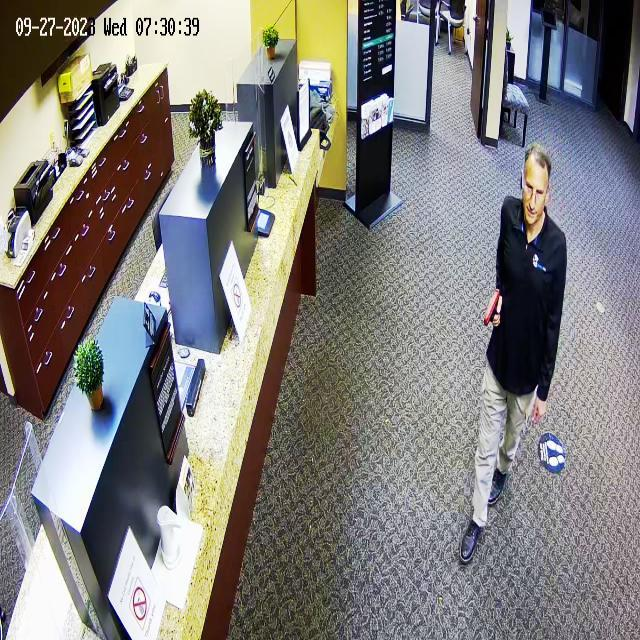Gun: (474, 284, 508, 332)
